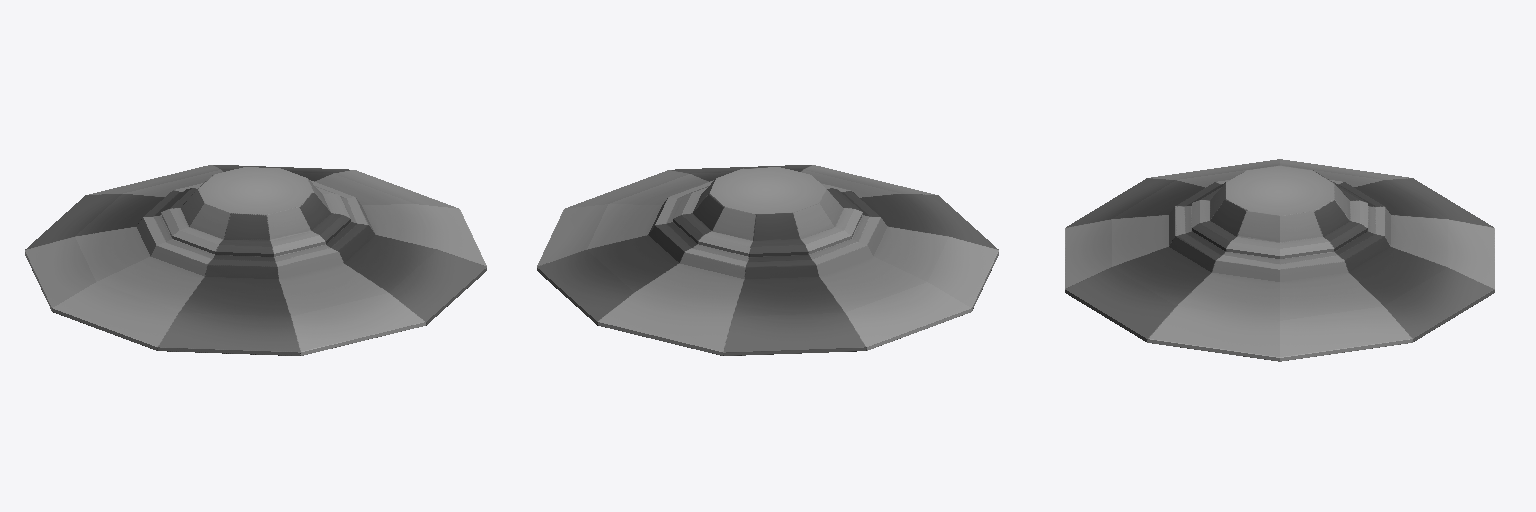
The picture shows the model from 3 angles: view 1: azimuth 30°, elevation 25°; view 2: azimuth 150°, elevation 25°; view 3: azimuth 270°, elevation 25°; orthographic projection.
Visible parts, largest first — view 1: FlyingSaucer_mesh; view 2: FlyingSaucer_mesh; view 3: FlyingSaucer_mesh.
Part boxes in pixels (left/top/right/bottom): FlyingSaucer_mesh: left=25, top=165, right=486, bottom=355; FlyingSaucer_mesh: left=537, top=165, right=998, bottom=355; FlyingSaucer_mesh: left=1065, top=159, right=1494, bottom=361.
Bounding box in the file's own units: 13.58 × 4.15 × 12.4.
Materials: 1 (1 with a texture image).